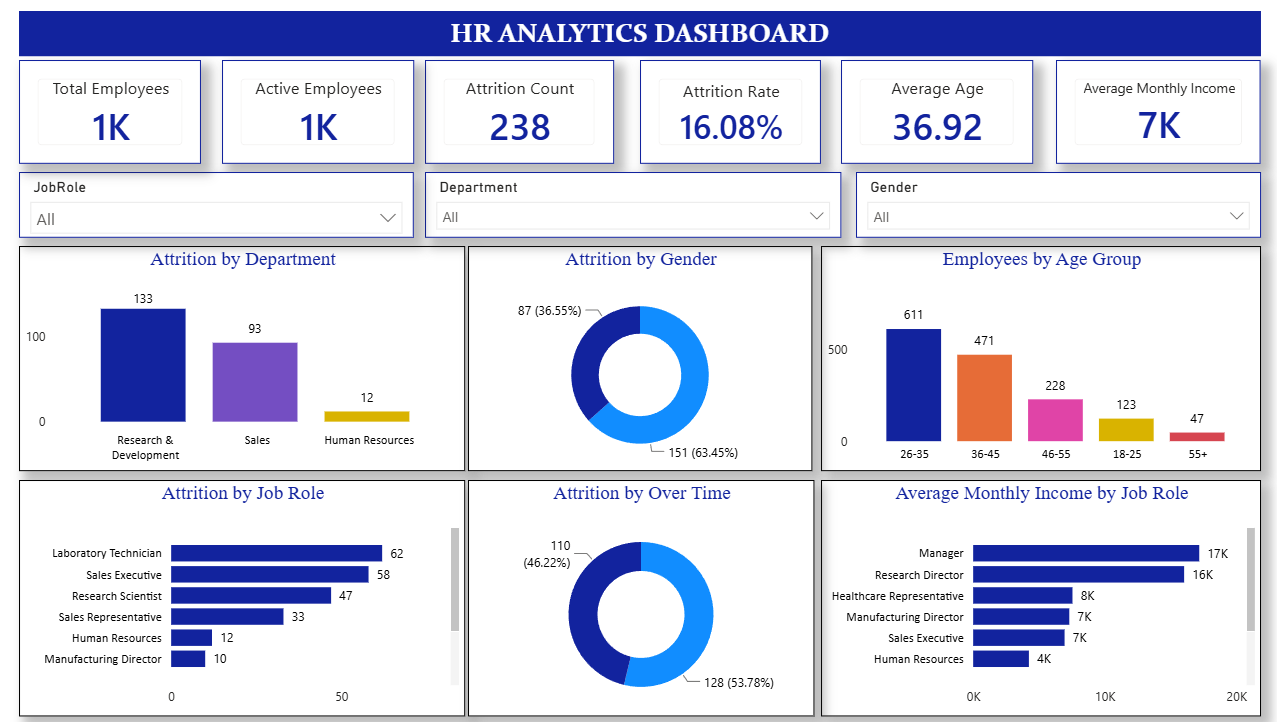

This screenshot's page, from the dashboard's own definition file:
{"tool":"powerbi","page":{"name":"Page 1","canvas":[1280,720],"ordinal":0},"visuals":[{"type":"textbox","box":[36,22.4,1208,43.8],"z":0},{"type":"cardVisual","fields":{"Data":["HR_Analytics.Average Age"]},"box":[835.5,70,186.7,101.2],"z":1000},{"type":"cardVisual","fields":{"Data":["HR_Analytics.Average Monthly Income"]},"box":[1044.6,70,199.4,101.2],"z":2000},{"type":"cardVisual","fields":{"Data":["HR_Analytics.Attrition Count"]},"box":[430.9,70,183.8,101.2],"z":3000},{"type":"cardVisual","fields":{"Data":["HR_Analytics.Attrition Rate"]},"box":[640,70,176,101.2],"z":4000},{"type":"cardVisual","fields":{"Data":["HR_Analytics.Active Employees"]},"box":[233.4,70,186.7,101.2],"z":5000},{"type":"clusteredColumnChart","title":"Attrition by Department","fields":{"Category":["HR_Analytics.Department"],"Y":["HR_Analytics.Attrition Count"]},"box":[36,250.9,433.8,218.8],"z":6000},{"type":"clusteredColumnChart","title":"Employees by Age Group","fields":{"Category":["HR_Analytics.AgeGroup"],"Y":["HR_Analytics.Total Employees"]},"box":[816,250.9,428,218.8],"z":7000},{"type":"donutChart","title":"Attrition by Gender","fields":{"Category":["HR_Analytics.Gender"],"Y":["HR_Analytics.Attrition Count"]},"box":[472.7,250.9,334.6,218.8],"z":8000},{"type":"clusteredBarChart","title":"Attrition by Job Role","fields":{"Y":["HR_Analytics.Attrition Count"],"Category":["HR_Analytics.JobRole"]},"box":[36,478.5,433.8,229.5],"z":9000},{"type":"clusteredBarChart","title":"Average Monthly Income by Job Role","fields":{"Y":["HR_Analytics.Average Monthly Income"],"Category":["HR_Analytics.JobRole"]},"box":[816,478.5,428,229.5],"z":10000},{"type":"donutChart","title":"Attrition by Over Time","fields":{"Y":["HR_Analytics.Attrition Count"],"Category":["HR_Analytics.OverTime"]},"box":[472.7,478.5,336.5,229.5],"z":11000},{"type":"slicer","fields":{"Values":["HR_Analytics.Department"]},"box":[430.9,179,404.6,64.2],"z":12000},{"type":"slicer","fields":{"Values":["HR_Analytics.JobRole"]},"box":[36,179,384.2,64.2],"z":13000},{"type":"slicer","fields":{"Values":["HR_Analytics.Gender"]},"box":[850.1,179,393.9,64.2],"z":14000},{"type":"cardVisual","fields":{"Data":["HR_Analytics.Total Employees"]},"box":[36,70,177,101.2],"z":15000}]}

Visuals, with their boxes in screenshot pixels (x1, y1, x2, y2), scaled from the page's 1280x720 canvas onto the 1277x722 screenshot:
textbox: box=[36, 22, 1241, 66]
cardVisual - HR_Analytics.Average Age: box=[834, 70, 1020, 172]
cardVisual - HR_Analytics.Average Monthly Income: box=[1042, 70, 1241, 172]
cardVisual - HR_Analytics.Attrition Count: box=[430, 70, 613, 172]
cardVisual - HR_Analytics.Attrition Rate: box=[638, 70, 814, 172]
cardVisual - HR_Analytics.Active Employees: box=[233, 70, 419, 172]
"Attrition by Department" clusteredColumnChart: box=[36, 252, 469, 471]
"Employees by Age Group" clusteredColumnChart: box=[814, 252, 1241, 471]
"Attrition by Gender" donutChart: box=[472, 252, 805, 471]
"Attrition by Job Role" clusteredBarChart: box=[36, 480, 469, 710]
"Average Monthly Income by Job Role" clusteredBarChart: box=[814, 480, 1241, 710]
"Attrition by Over Time" donutChart: box=[472, 480, 807, 710]
slicer - HR_Analytics.Department: box=[430, 179, 834, 244]
slicer - HR_Analytics.JobRole: box=[36, 179, 419, 244]
slicer - HR_Analytics.Gender: box=[848, 179, 1241, 244]
cardVisual - HR_Analytics.Total Employees: box=[36, 70, 213, 172]
